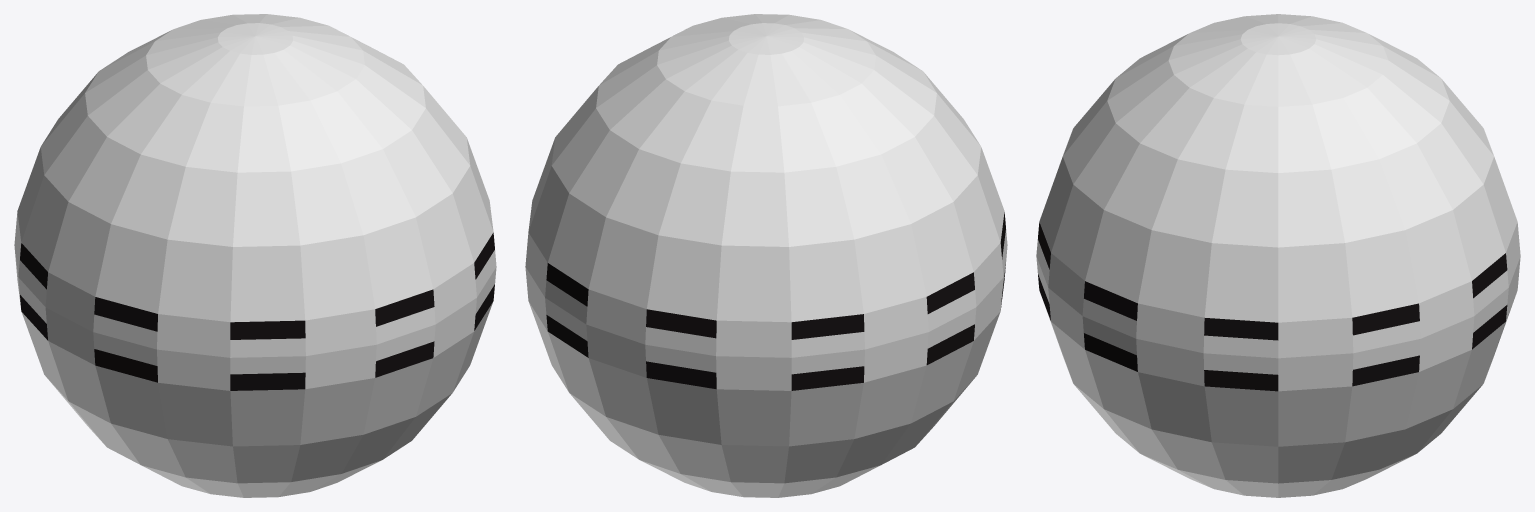
File: ball.fbx
The picture shows the model from 3 angles, left to right: view 1: azimuth 30°, elevation 25°; view 2: azimuth 150°, elevation 25°; view 3: azimuth 270°, elevation 25°; orthographic projection.
Parts seen in each view (by area): view 1: pSphere1; view 2: pSphere1; view 3: pSphere1.
Part boxes in pixels (x1,y1,x2,y2): pSphere1: [14, 14, 496, 497]; pSphere1: [525, 14, 1007, 497]; pSphere1: [1036, 14, 1520, 497].
Size of the model in its own units: 0.4 by 0.4 by 0.4.
